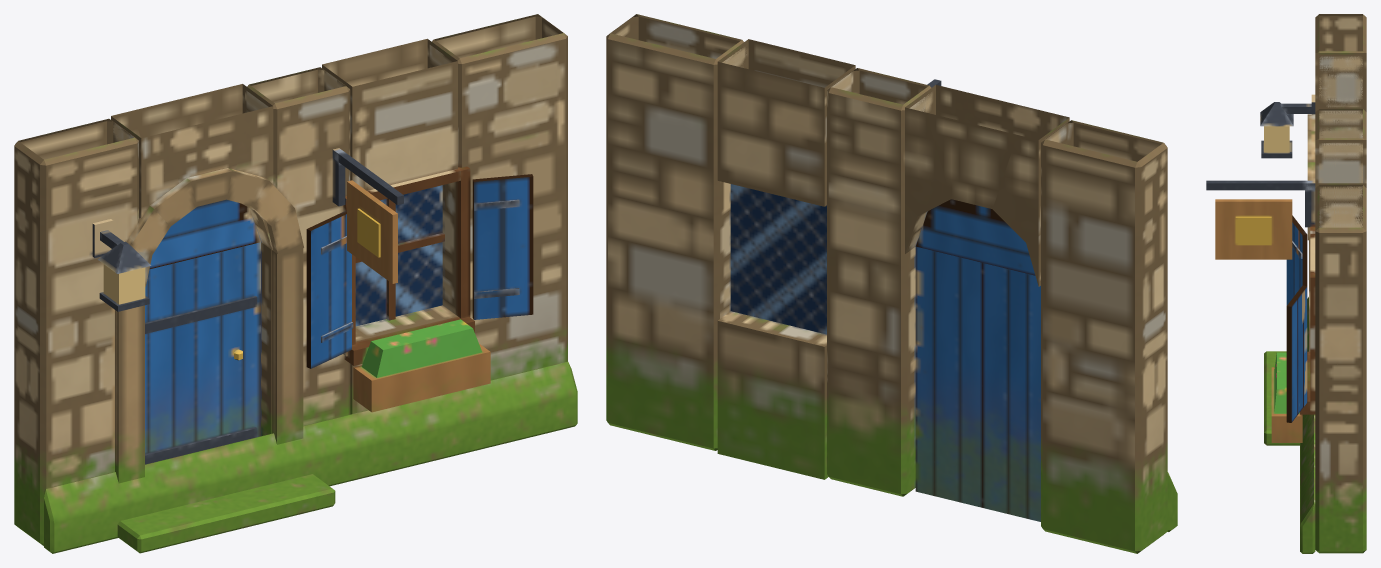
The model's file is Kit_House_GroundDoor.fbx.
The picture shows the model from 3 angles, left to right: view 1: azimuth 30°, elevation 25°; view 2: azimuth 150°, elevation 25°; view 3: azimuth 270°, elevation 25°; orthographic projection. The views are drawn at different scales.
Visible parts, largest first — view 1: Kit_House_GroundDoor_LOD0; view 2: Kit_House_GroundDoor_LOD0; view 3: Kit_House_GroundDoor_LOD0.
Boxes of the visible parts, box(x1,y1,x2,y2) form: Kit_House_GroundDoor_LOD0: box(14, 14, 577, 553); Kit_House_GroundDoor_LOD0: box(606, 14, 1177, 553); Kit_House_GroundDoor_LOD0: box(1206, 14, 1366, 553).
Size of what is drawn, in the model's own units: 4 by 2.8 by 1.25.
Materials: 1 (1 with a texture image).
